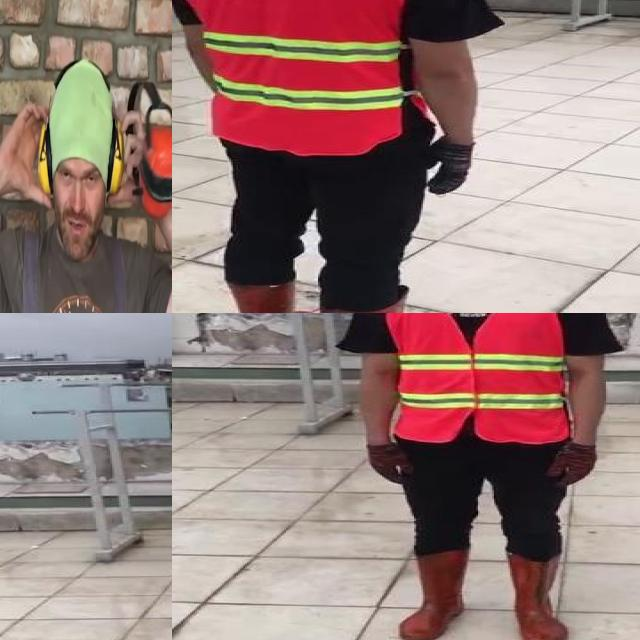Ear-protection: (34, 58, 129, 250)
No_Glasses: (54, 148, 100, 198)
boots: (400, 551, 471, 640), (502, 549, 570, 640), (222, 280, 316, 313)
hand_glove: (421, 141, 471, 194), (364, 445, 414, 486), (548, 447, 596, 487)
head_helmet: (172, 0, 501, 313), (340, 313, 614, 640)
vest: (172, 0, 421, 154), (389, 313, 568, 443)
